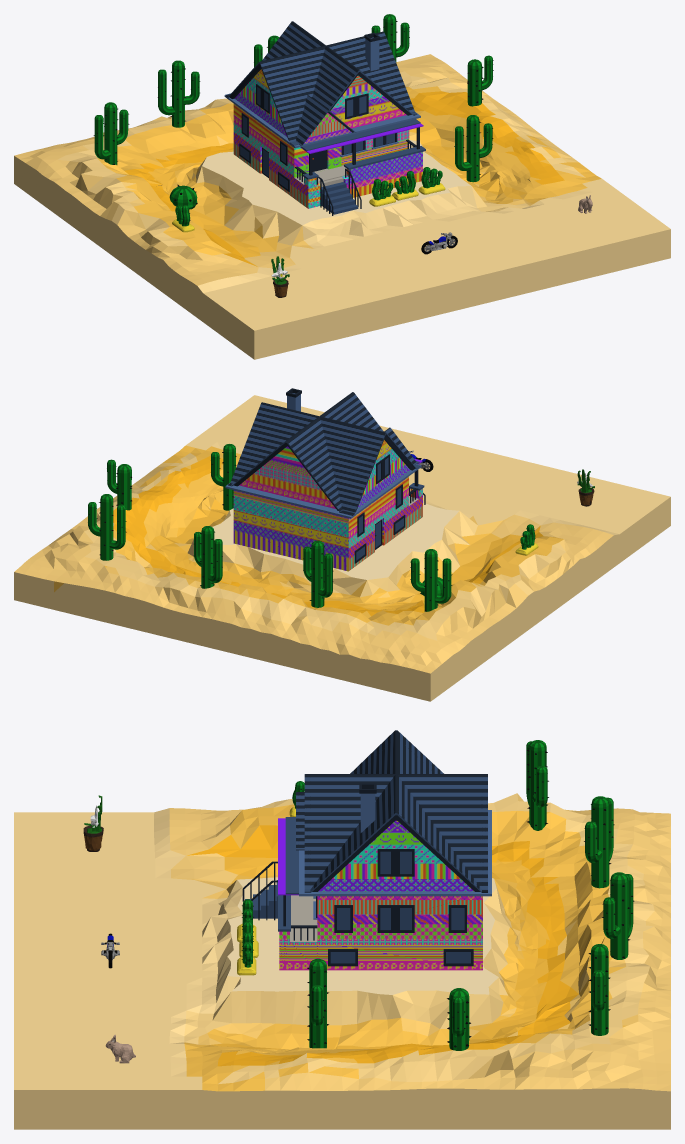
3 renders of one model, top to bottom at view 1: azimuth 30°, elevation 25°; view 2: azimuth 150°, elevation 25°; view 3: azimuth 270°, elevation 25°, orthographic. The views are drawn at different scales.
Visible parts, largest first — view 1: Cube.001, Cube.676, Cylinder.037, Cylinder.044, Cylinder.045, Cylinder.038, Cylinder.042, Cylinder.039, Cylinder.041, OBJRANDOM_MONJA BLANCA, Sphere.023, Cylinder.040; view 2: Cube.001, Cube.676, Cylinder.042, Cylinder.045, Cylinder.044, Cylinder.043, Cylinder.037, Cylinder.038; view 3: Cube.001, Cube.676, Cylinder.043, Cylinder.044, Cylinder.045, Cylinder.042, Cylinder.037, Cylinder.038, OBJRANDOM_MONJA BLANCA, Cylinder.041.
Part boxes in pixels (bbox=[...]): Cube.001: bbox=[14, 54, 670, 359]; Cube.676: bbox=[224, 21, 425, 215]; Cylinder.037: bbox=[454, 115, 493, 182]; Cylinder.044: bbox=[157, 60, 200, 127]; Cylinder.045: bbox=[93, 102, 129, 164]; Cylinder.038: bbox=[467, 55, 493, 106]; Cylinder.042: bbox=[371, 14, 409, 62]; Cylinder.039: bbox=[369, 179, 395, 206]; Cylinder.041: bbox=[418, 167, 445, 194]; OBJRANDOM_MONJA BLANCA: bbox=[271, 256, 289, 297]; Sphere.023: bbox=[169, 184, 197, 209]; Cylinder.040: bbox=[392, 171, 418, 200]; Cube.001: bbox=[14, 395, 670, 701]; Cube.676: bbox=[225, 388, 425, 571]; Cylinder.042: bbox=[88, 494, 126, 560]; Cylinder.045: bbox=[410, 549, 452, 611]; Cylinder.044: bbox=[303, 540, 333, 607]; Cylinder.043: bbox=[193, 526, 222, 588]; Cylinder.037: bbox=[211, 444, 240, 510]; Cylinder.038: bbox=[107, 459, 131, 510]; Cube.001: bbox=[14, 793, 670, 1129]; Cube.676: bbox=[242, 730, 491, 970]; Cylinder.043: bbox=[602, 872, 634, 959]; Cylinder.044: bbox=[584, 796, 614, 888]; Cylinder.045: bbox=[526, 740, 548, 830]; Cylinder.042: bbox=[588, 944, 610, 1035]; Cylinder.037: bbox=[307, 958, 328, 1048]; Cylinder.038: bbox=[447, 988, 471, 1050]; OBJRANDOM_MONJA BLANCA: bbox=[83, 795, 103, 851]; Cylinder.041: bbox=[237, 932, 256, 975].
Size of the model in its own units: 4002 by 1779 by 4001.
35 materials, 6 textured.
